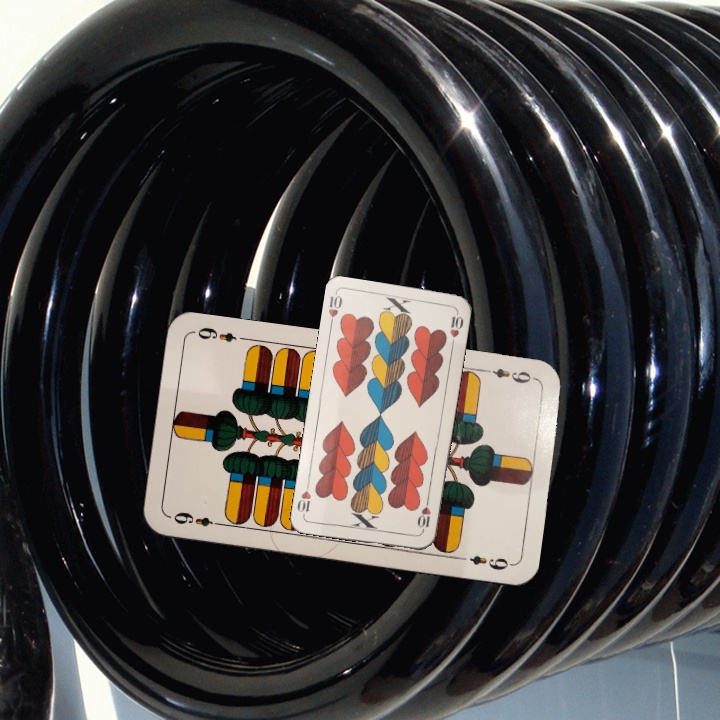E9: (479, 364, 538, 386), (169, 508, 225, 529)
H10: (324, 290, 345, 331), (414, 495, 433, 535)
